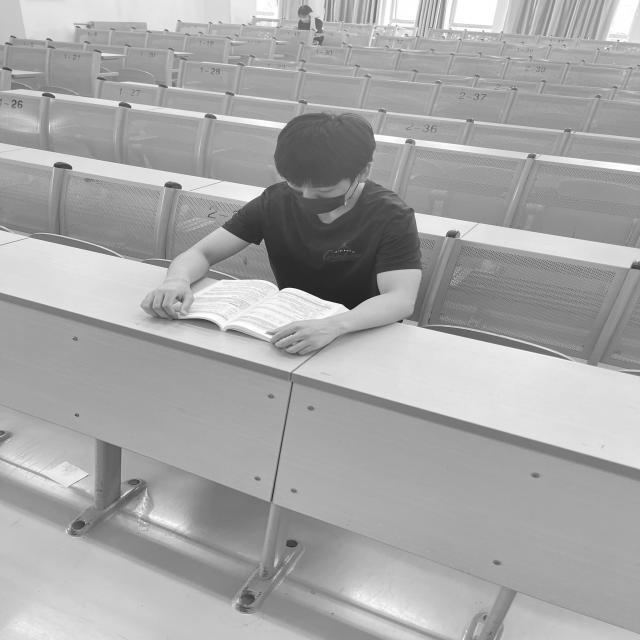study: (144, 113, 421, 354)
